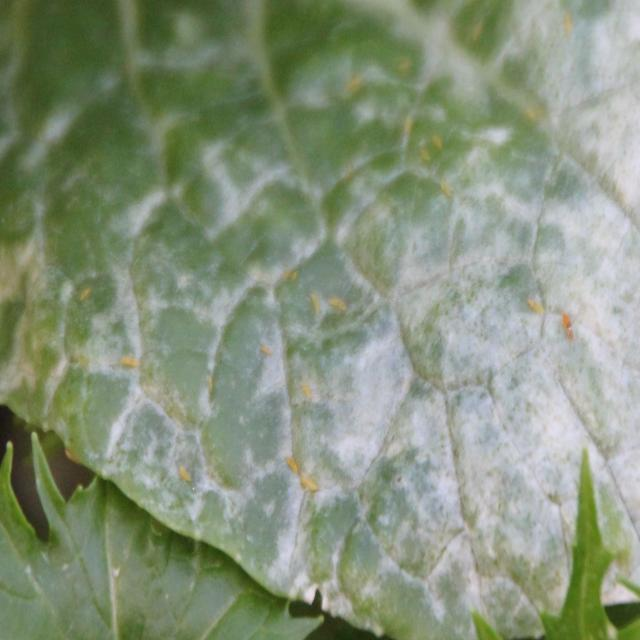Thrip-Larva-: (114, 343, 150, 374), (296, 469, 324, 497), (522, 288, 547, 318), (175, 459, 197, 487), (298, 375, 317, 406), (255, 333, 278, 358), (326, 294, 349, 316), (283, 452, 301, 478), (308, 285, 322, 315), (206, 367, 217, 399)
